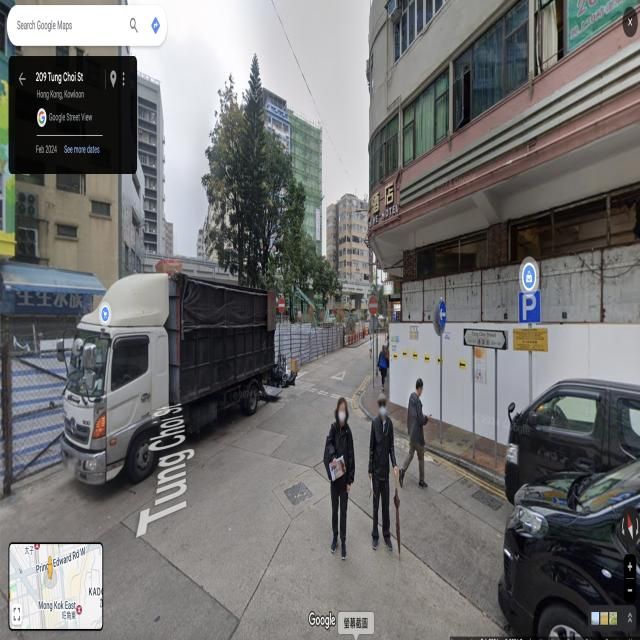Order-Sign: (439, 298, 446, 328), (369, 294, 378, 316), (278, 297, 285, 313)
Street-Direction-Sign: (464, 328, 507, 351)
